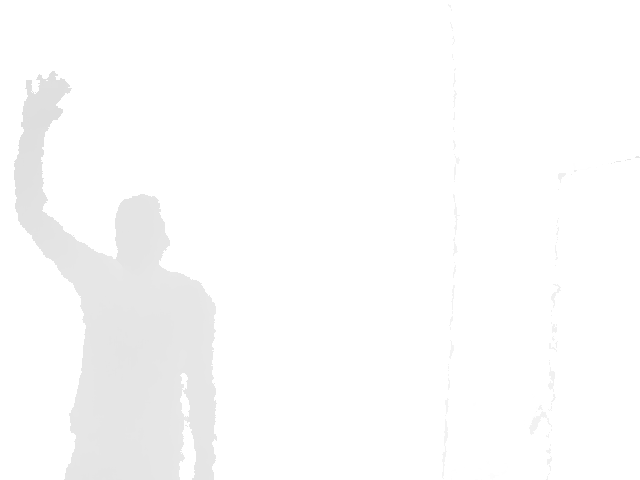hand: (16, 69, 73, 133)
head: (113, 193, 171, 270)
person: (12, 69, 218, 480)
